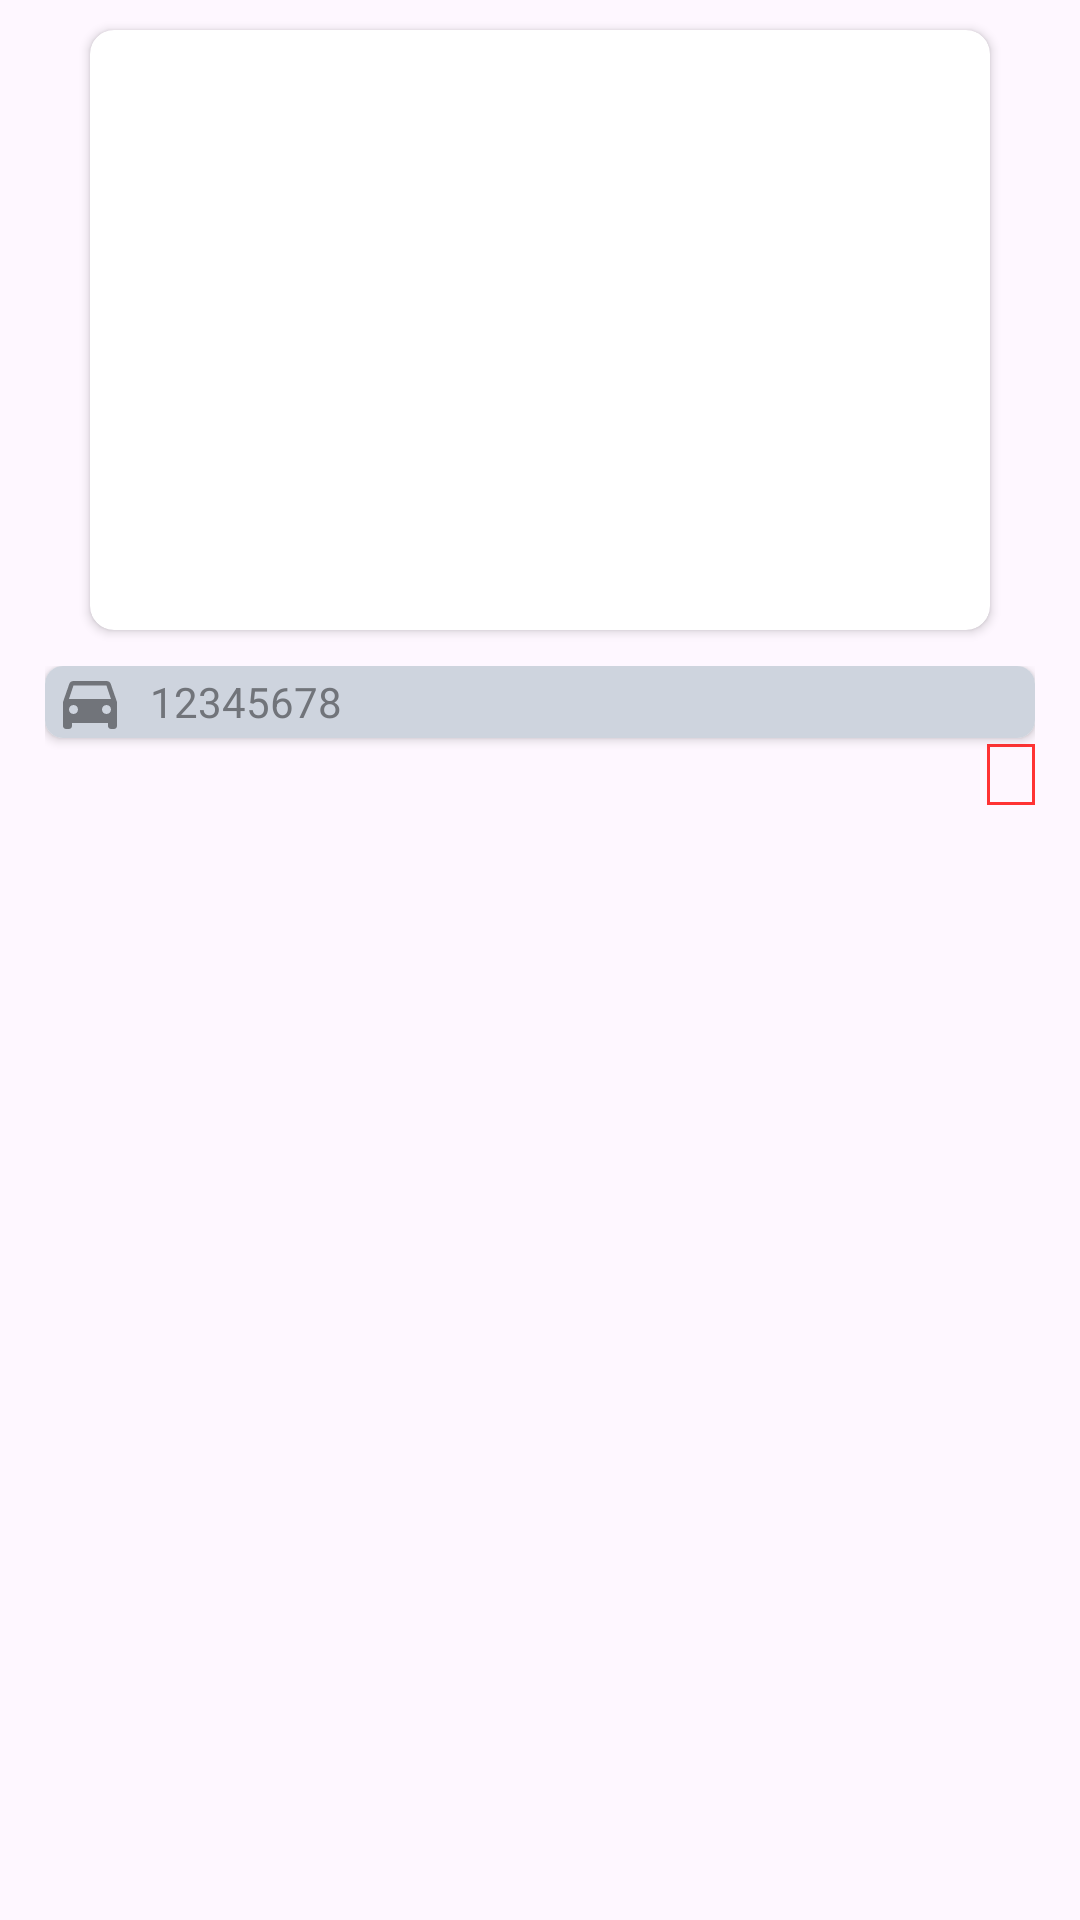

Where icons sit on this 1080px x 1920px app screen, as detection(x1, y1, x2, y2):
detail car id: detection(63, 681, 117, 729)
